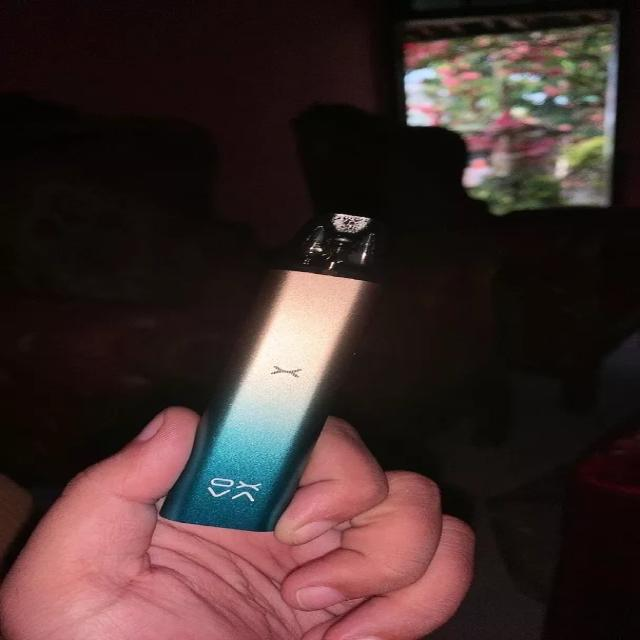Hazard: (164, 206, 396, 529)
